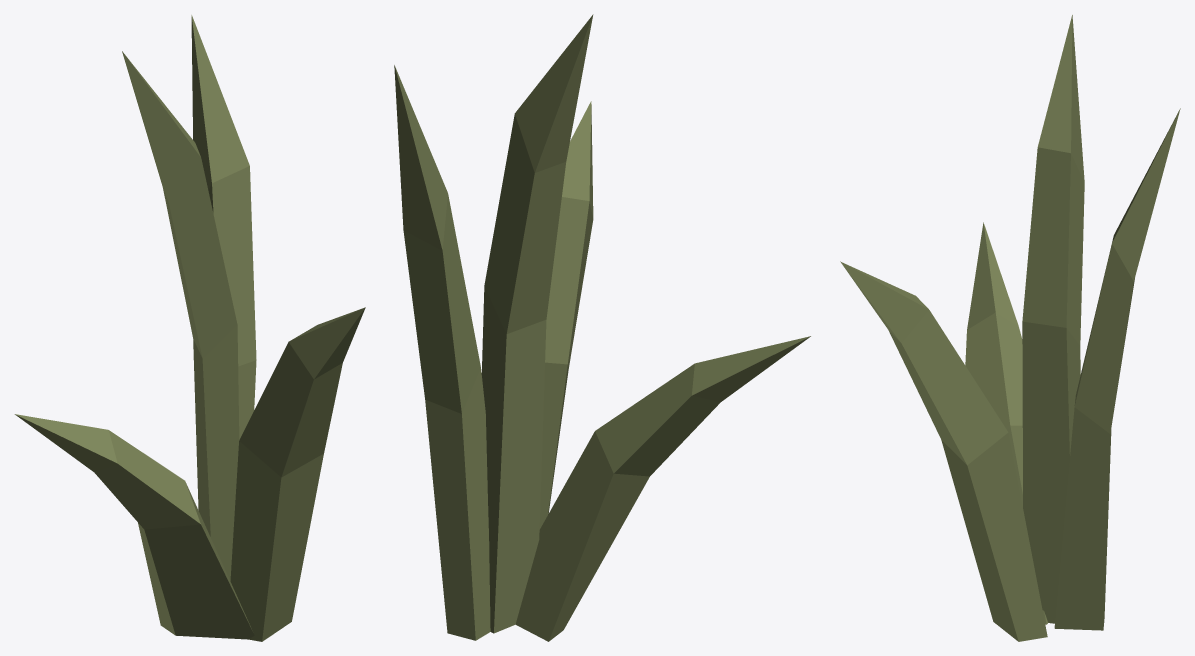
File: env_grass.gltf
3 views of the same model, side by side, from view 1: azimuth 30°, elevation 25°; view 2: azimuth 150°, elevation 25°; view 3: azimuth 270°, elevation 25° (orthographic). The views are drawn at different scales.
Visible parts, largest first — view 1: env_grass; view 2: env_grass; view 3: env_grass.
Part boxes in pixels (<box>): env_grass: <box>14,15,365,641</box>; env_grass: <box>394,14,810,641</box>; env_grass: <box>840,15,1180,641</box>.
Size of the model in its own units: 0.4705 by 0.8694 by 0.4782.
1 material, 1 textured.
